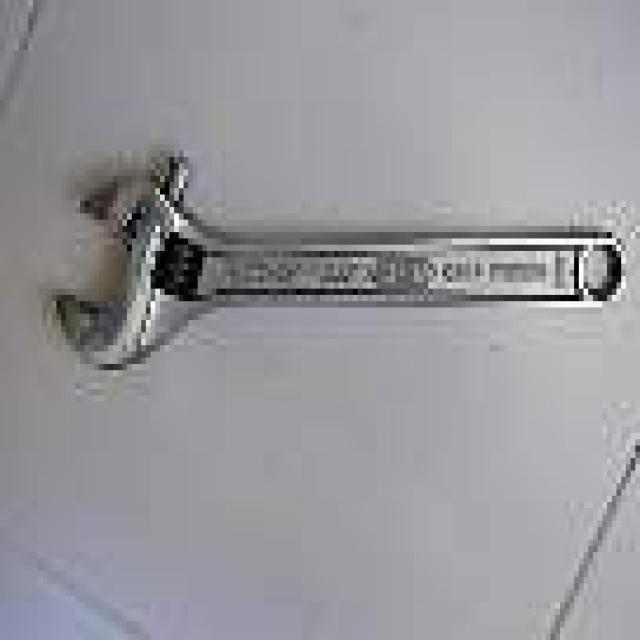wrench: (49, 134, 628, 376)
